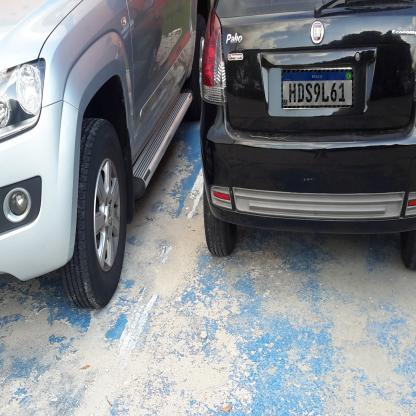PlacaM: (282, 69, 354, 108)
